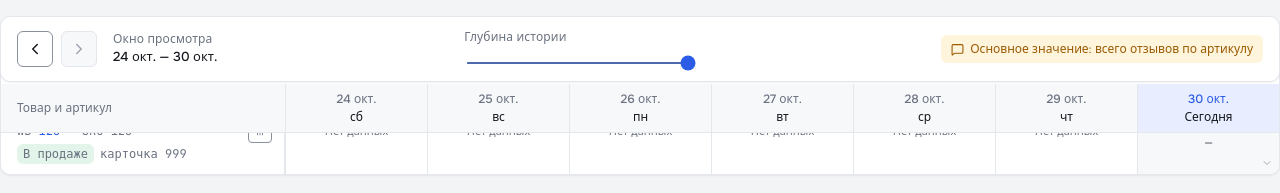
Test: ReviewTimeline › keeps a 90-day calendar even when only today has data
The image size is (1280, 193).
Expected: the text "Сегодня" is shown, [1184,109,1232,125]
Click the button named "Предыдущие семь дней" at (35, 49), box [17,31,53,67]
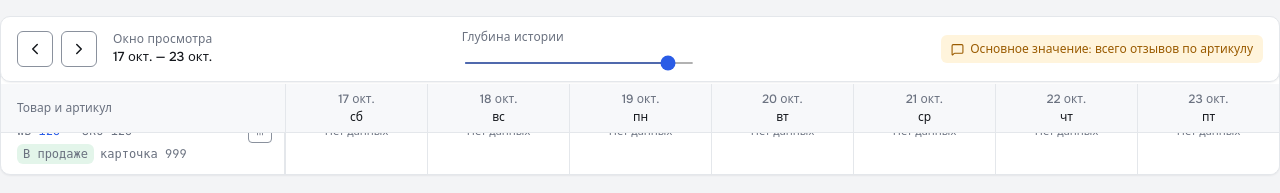
Expected: the text "Нет данных" is shown 7 times
